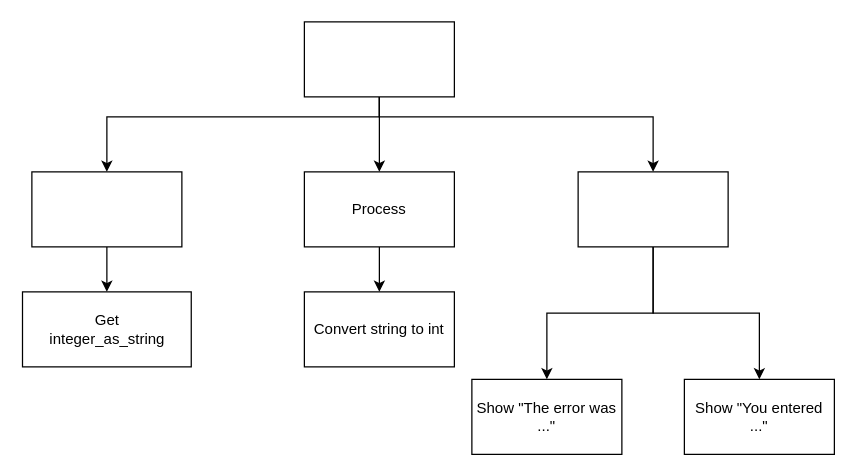
This 856x476 diagram has some shape labels left out. Each missing label, with the centre of its shape:
Enter Integer: point 378,59
Input: point 106,209
Output: point 652,209
